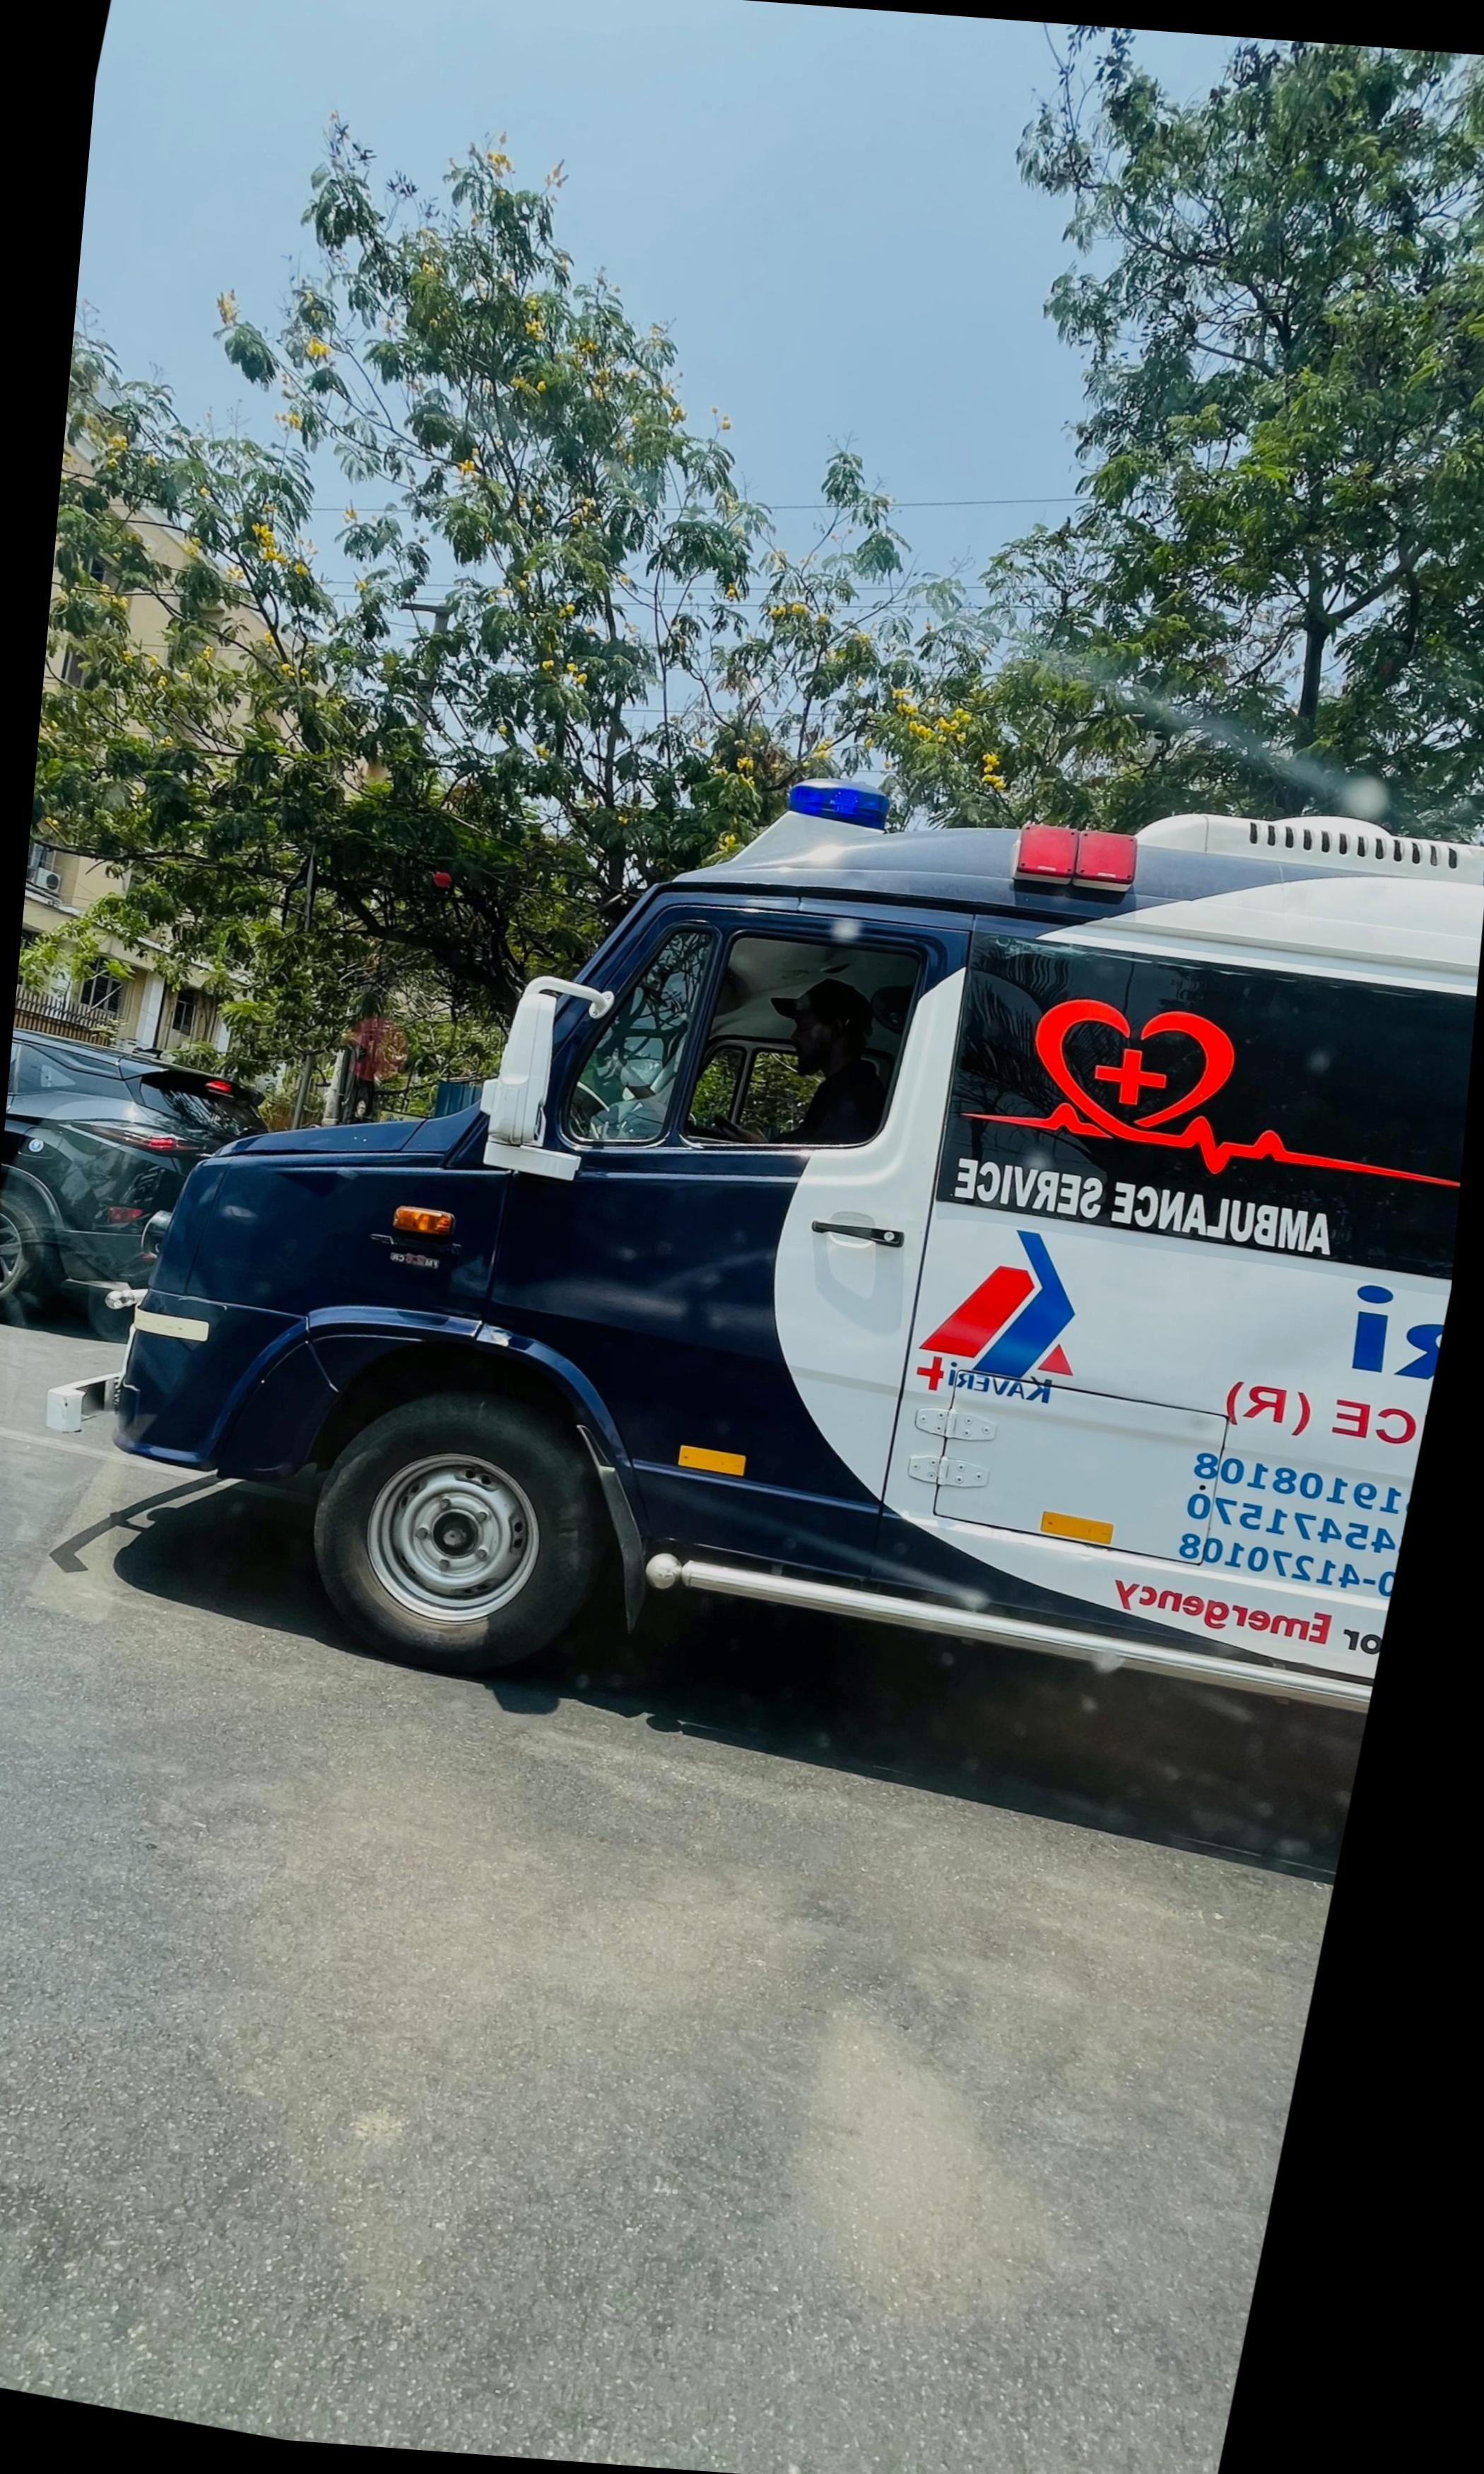ambulance: (111, 783, 1484, 1730)
